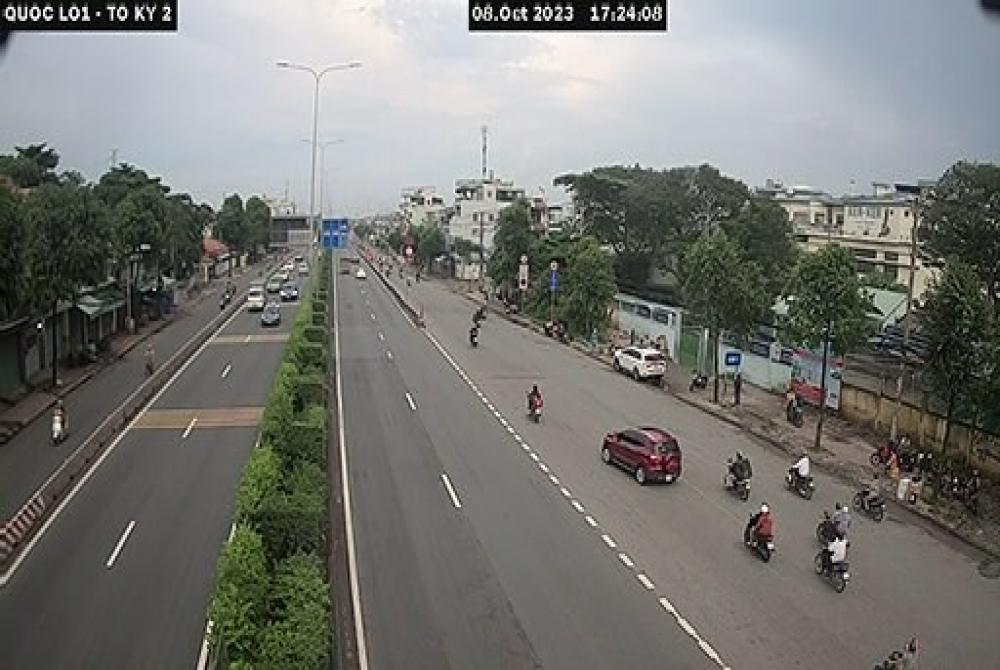car: (591, 413, 694, 500), (606, 335, 666, 384), (259, 296, 283, 336), (280, 275, 298, 308)
